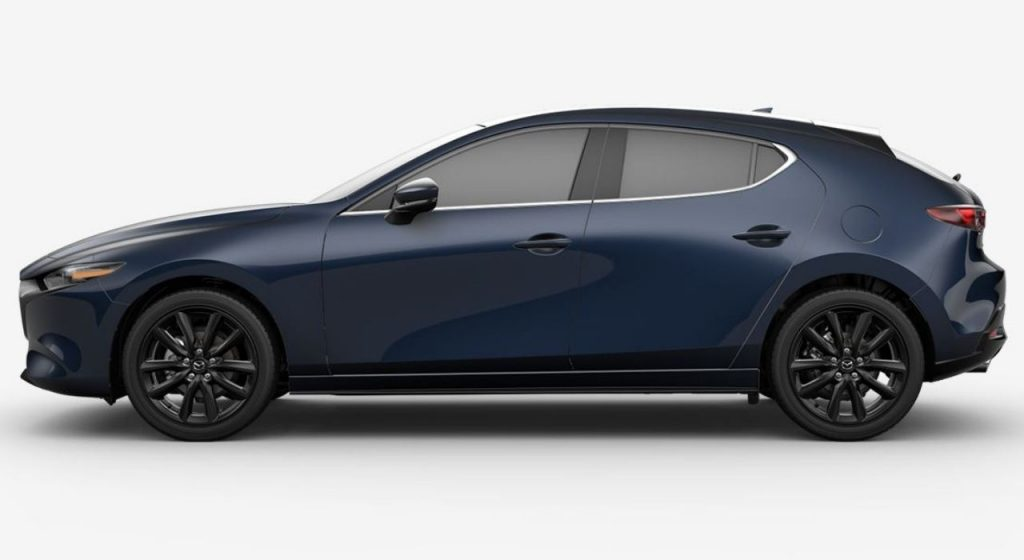Mazda3 Hatchback: (18, 106, 1009, 443)
